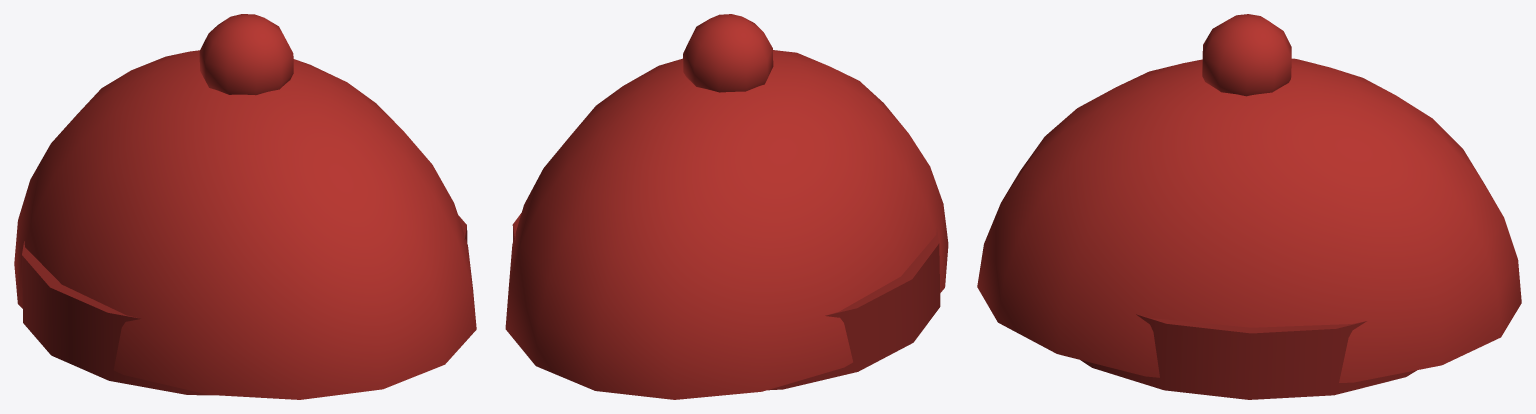
The model's file is beanie_f.glb.
The picture shows the model from 3 angles, left to right: view 1: azimuth 30°, elevation 25°; view 2: azimuth 150°, elevation 25°; view 3: azimuth 270°, elevation 25°; orthographic projection. The views are drawn at different scales.
Visible parts, largest first — view 1: beanie_f; view 2: beanie_f; view 3: beanie_f.
Part boxes in pixels (x1=…): beanie_f: x1=14, y1=14, x2=476, y2=399; beanie_f: x1=505, y1=14, x2=948, y2=399; beanie_f: x1=977, y1=14, x2=1521, y2=399.
Size of the model in its own units: 0.2062 by 0.1506 by 0.2527.
